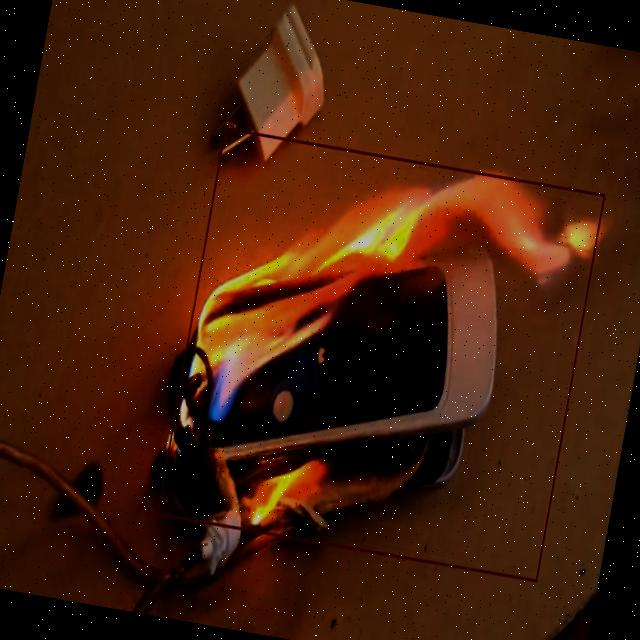fire: (156, 126, 605, 582)
